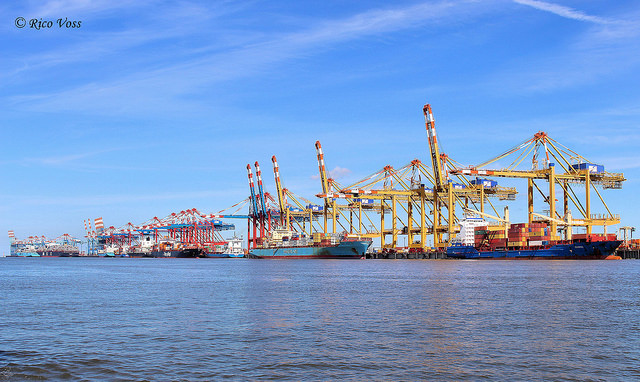container_ship: (450, 211, 625, 262), (247, 226, 374, 258), (152, 236, 203, 258), (210, 236, 245, 260), (36, 239, 79, 256), (127, 239, 149, 257)
